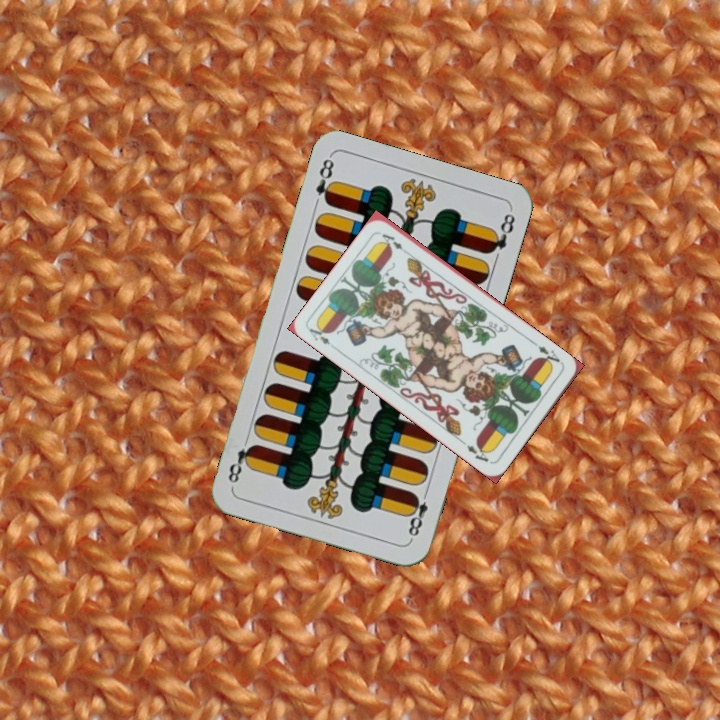E8: (404, 485, 432, 542), (311, 154, 338, 207)
EA: (534, 341, 565, 370), (305, 321, 333, 347)
